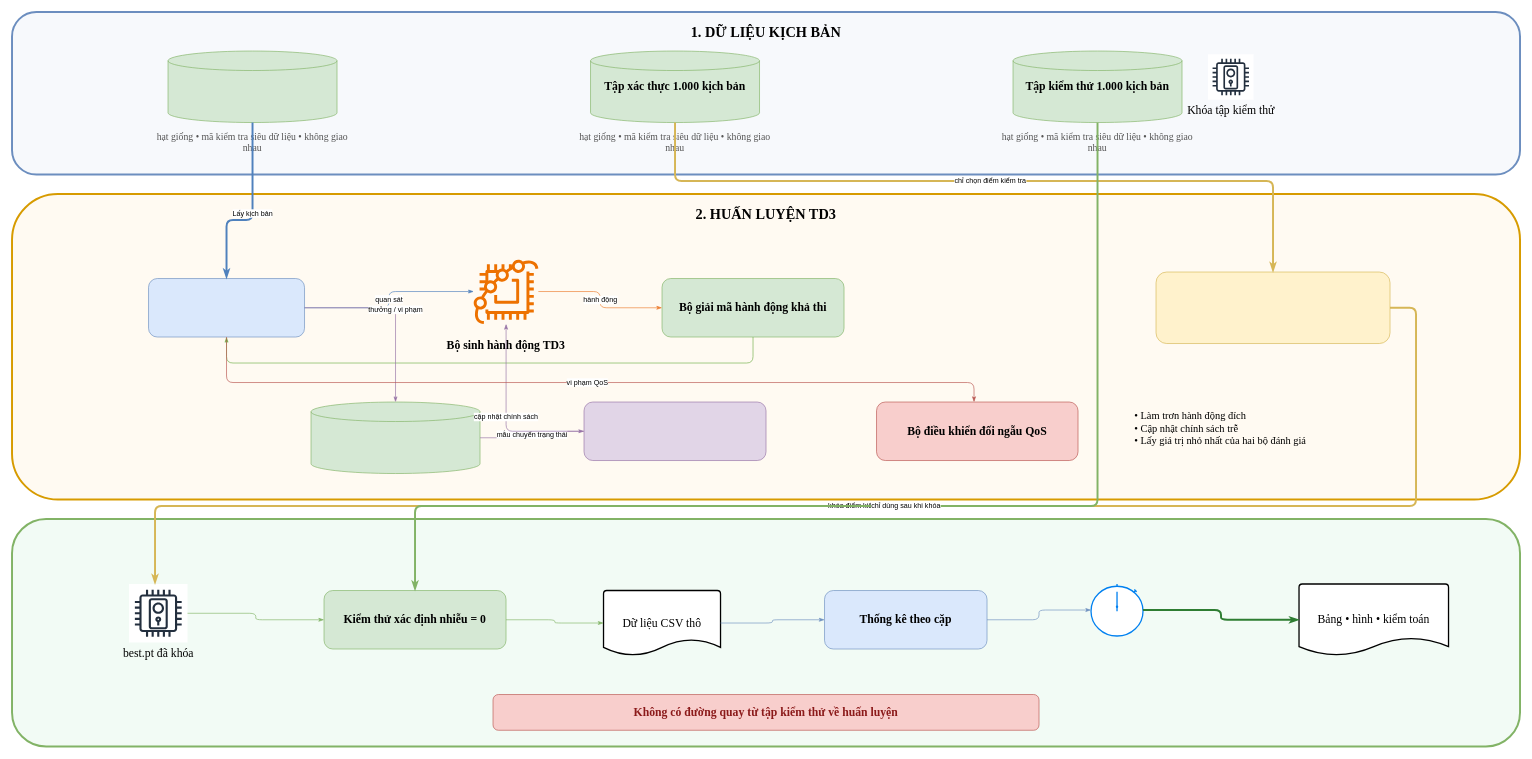
The diagram is 1532 pixels wide and 759 high, and some of its shapes have lost their labels. Each missing label, with the box of its shape:
3. ĐÁNH GIÁ VÀ BÁO CÁO: (11, 518, 1521, 747)
Bộ nhớ phát lại: (310, 401, 480, 474)
Hai bộ đánh giá: (583, 401, 766, 461)
Môi trường: (148, 278, 305, 337)
Tập huấn luyện 10.000 kịch bản: (167, 50, 337, 123)
Xác thực mỗi 5.000 bước Chọn điểm kiểm tra tốt nhất: (1155, 271, 1390, 344)
Đo độ trễ: (1090, 583, 1143, 636)
